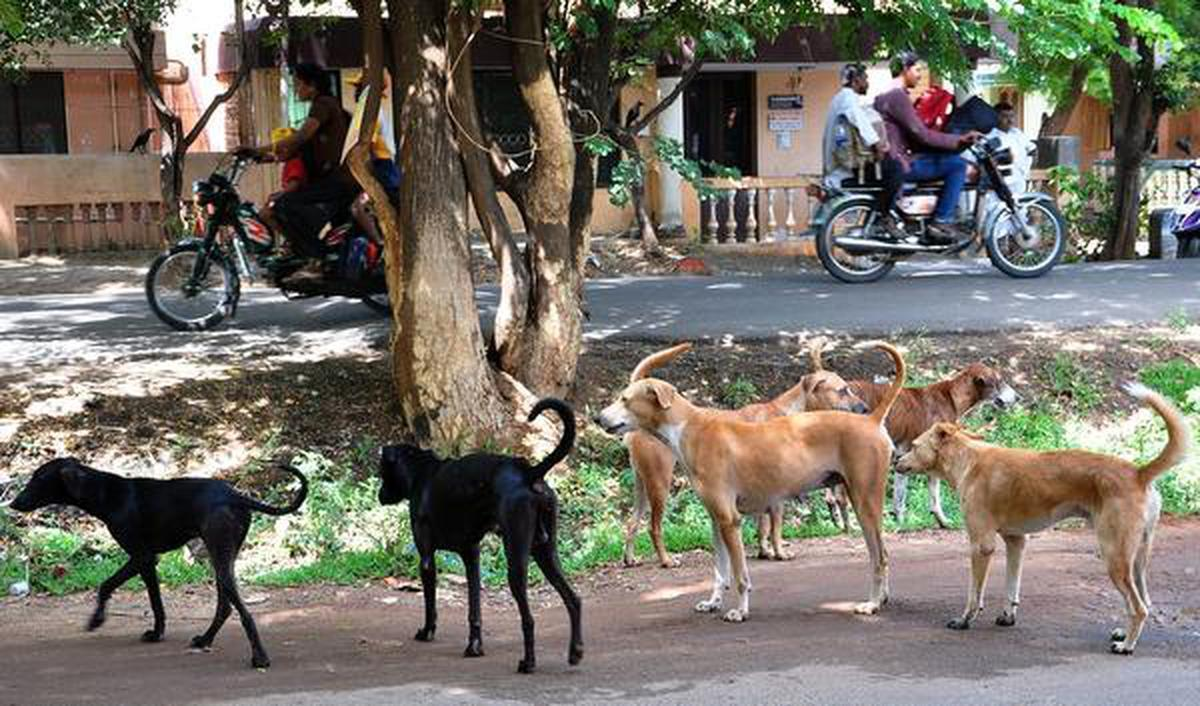normal_dogs: (893, 381, 1176, 655), (595, 375, 912, 618), (3, 437, 320, 673), (377, 395, 593, 674), (632, 339, 872, 415), (872, 346, 1024, 440)
